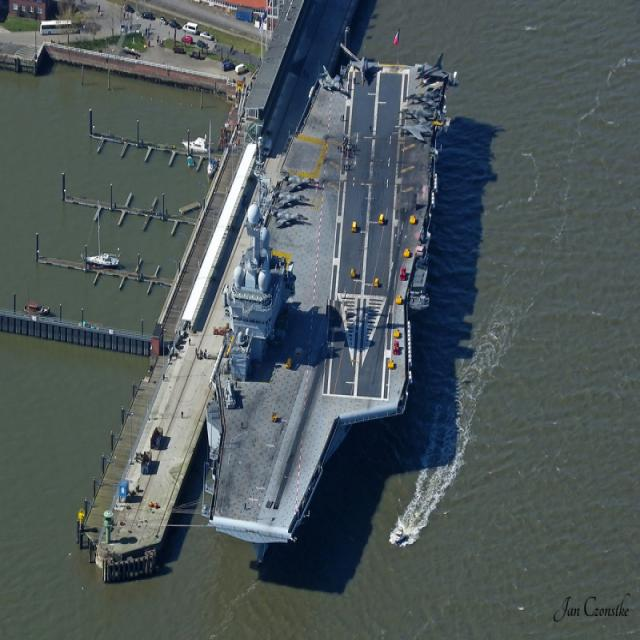Portanaves: (197, 37, 459, 559)
